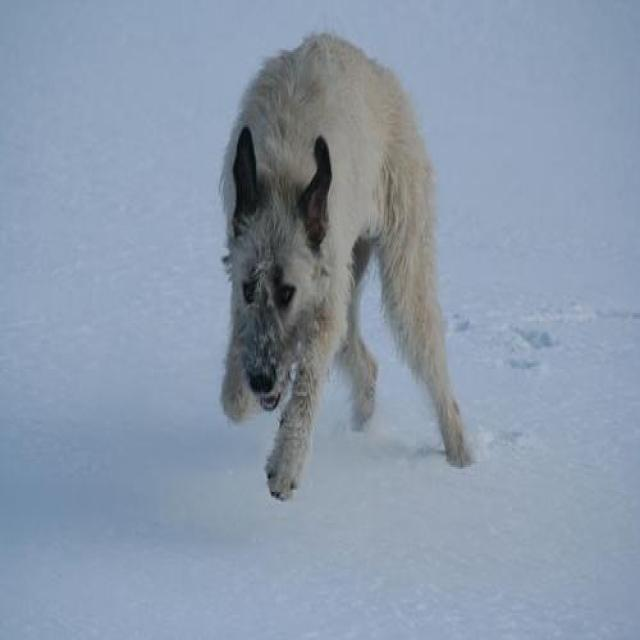irish_wolfhound: (219, 31, 476, 502)
